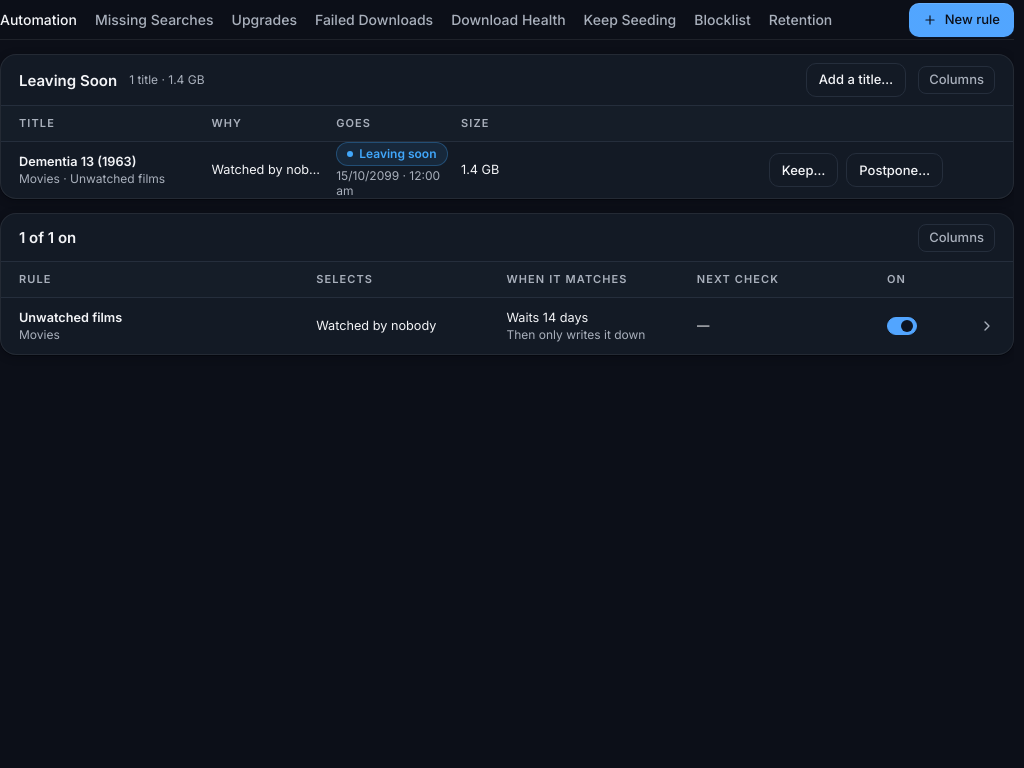
Test: Leaving soon: Keep › says the title could not be kept when the server refuses
Click the button with aria-label "Keep Dementia 13".
click(804, 170)  # box [769,153,838,187]
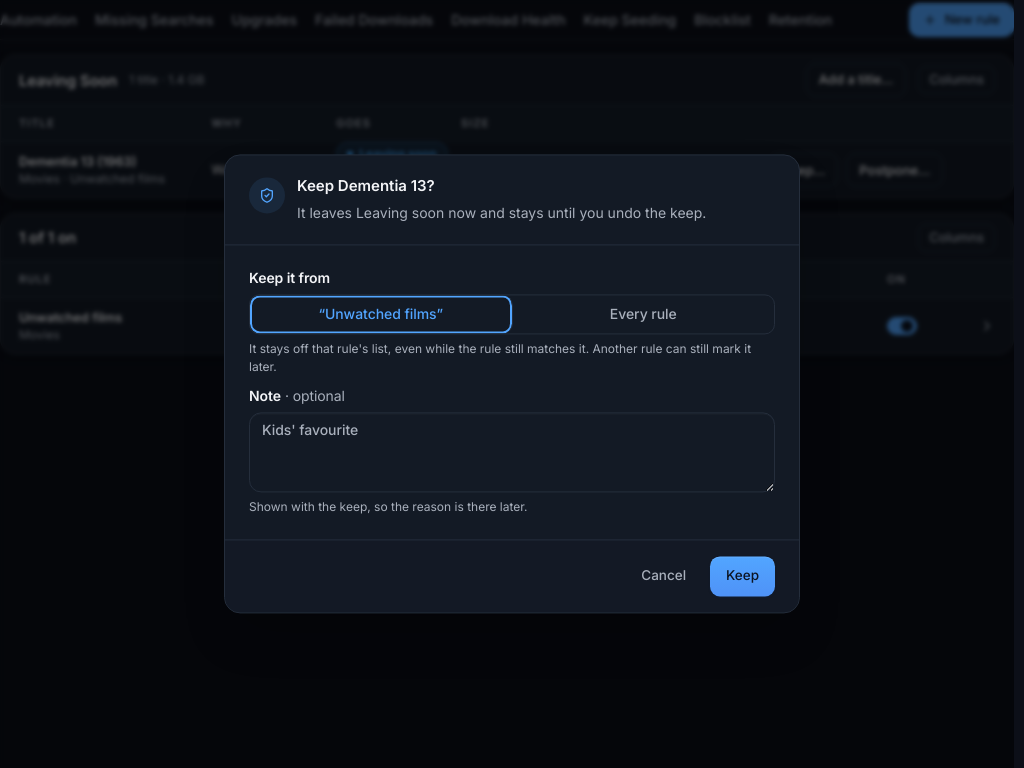
Click the button "Keep".
click(742, 577)  # box [710,557,775,597]
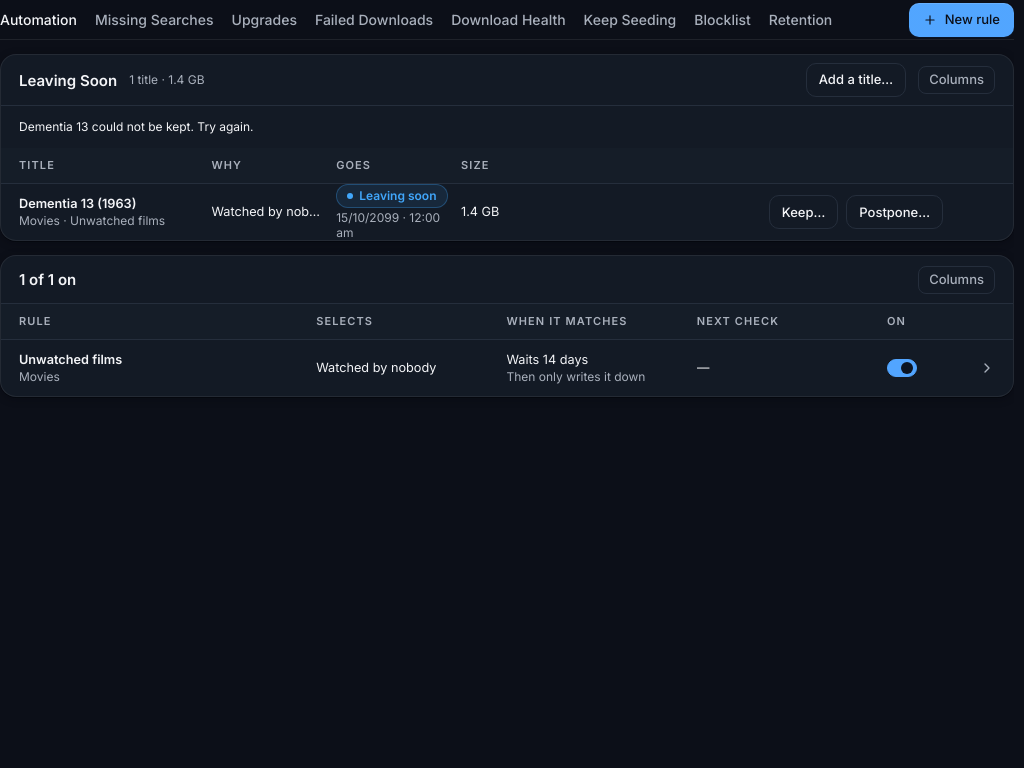
Result: the text "Dementia 13 could not be kept. Try again." is shown at [19,119,254,134]
